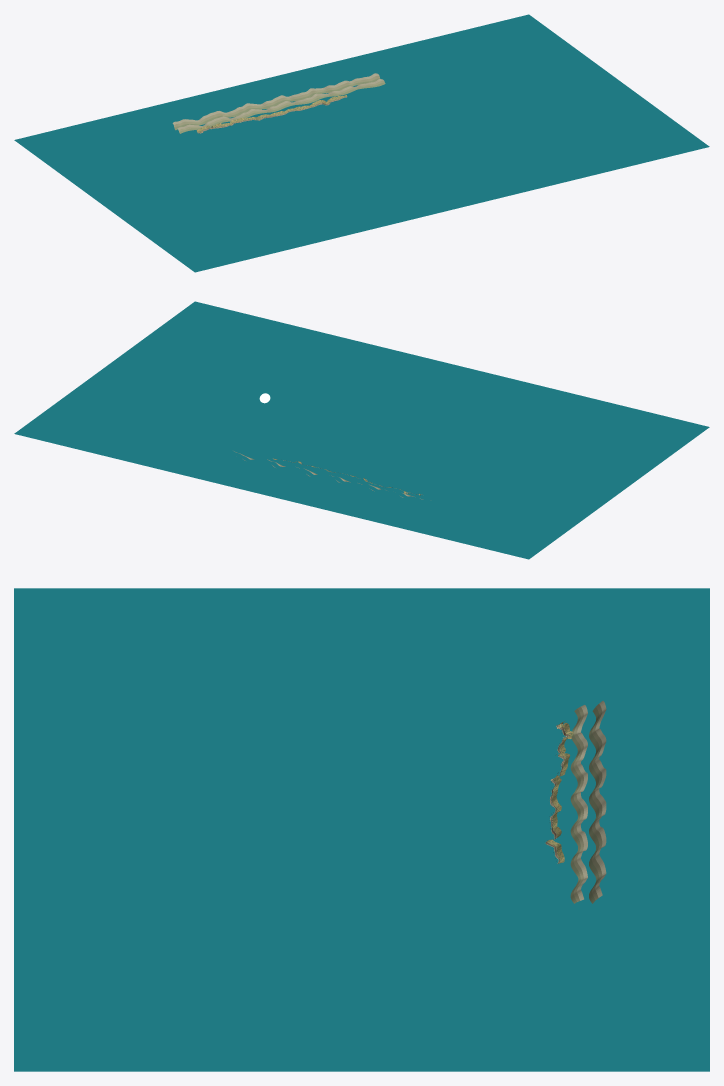
The model's file is bigsur.glb.
The picture shows the model from 3 angles, top to bottom: view 1: azimuth 30°, elevation 25°; view 2: azimuth 150°, elevation 25°; view 3: azimuth 270°, elevation 25°; orthographic projection. The views are drawn at different scales.
Parts seen in each view (by area): view 1: Sea, Peaks; view 2: Sea; view 3: Sea, Peaks.
Boxes of the visible parts, x1,y1,x2,y2 form: Sea: [14, 14, 709, 272]; Peaks: [172, 73, 385, 133]; Sea: [14, 301, 709, 559]; Sea: [14, 588, 709, 1071]; Peaks: [570, 701, 606, 903].
Size of the model in its own units: 46000 by 3306 by 28000.
